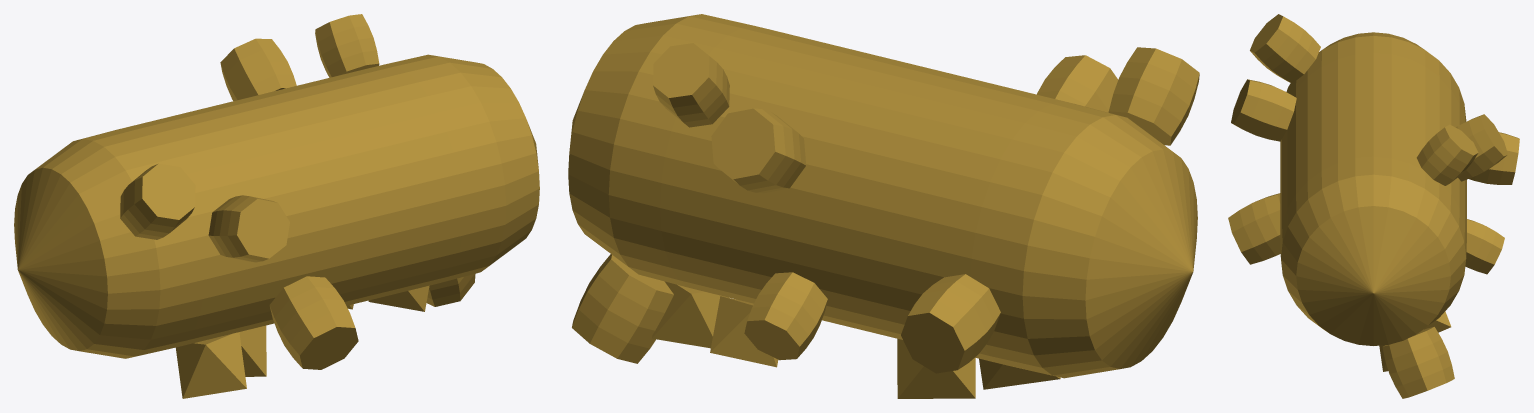
File: exp1_capsule_asym_01.glb
3 views of the same model, side by side, from view 1: azimuth 30°, elevation 25°; view 2: azimuth 150°, elevation 25°; view 3: azimuth 270°, elevation 25° (orthographic). The views are drawn at different scales.
Visible parts, largest first — view 1: exp1_capsule_asym_01; view 2: exp1_capsule_asym_01; view 3: exp1_capsule_asym_01.
Part boxes in pixels (x1,y1,x2,y2): exp1_capsule_asym_01: (14,14,539,398); exp1_capsule_asym_01: (568,14,1199,398); exp1_capsule_asym_01: (1228,14,1519,398).
Size of the model in its own units: 3.43 by 1.85 by 2.03.
